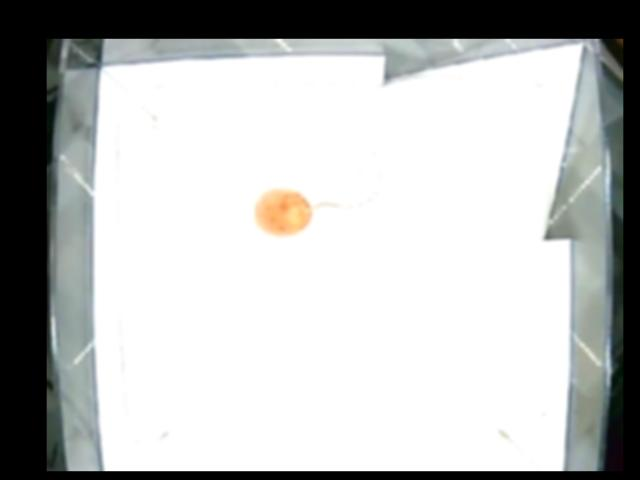Carrot: (254, 183, 316, 235)
